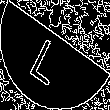L_NE: (34, 25, 76, 85)
